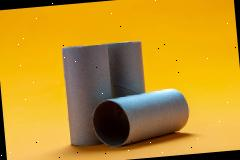paper: (61, 40, 149, 147), (90, 86, 191, 148), (107, 41, 146, 98)
